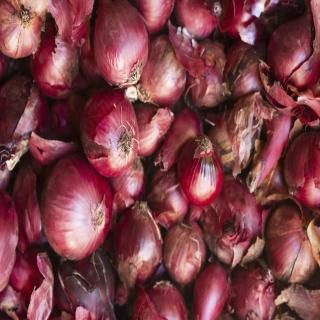Bawang Merah: (2, 1, 320, 320)
